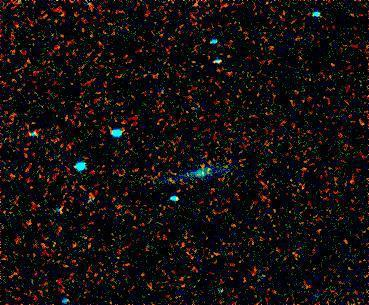star: (195, 149, 225, 179)
